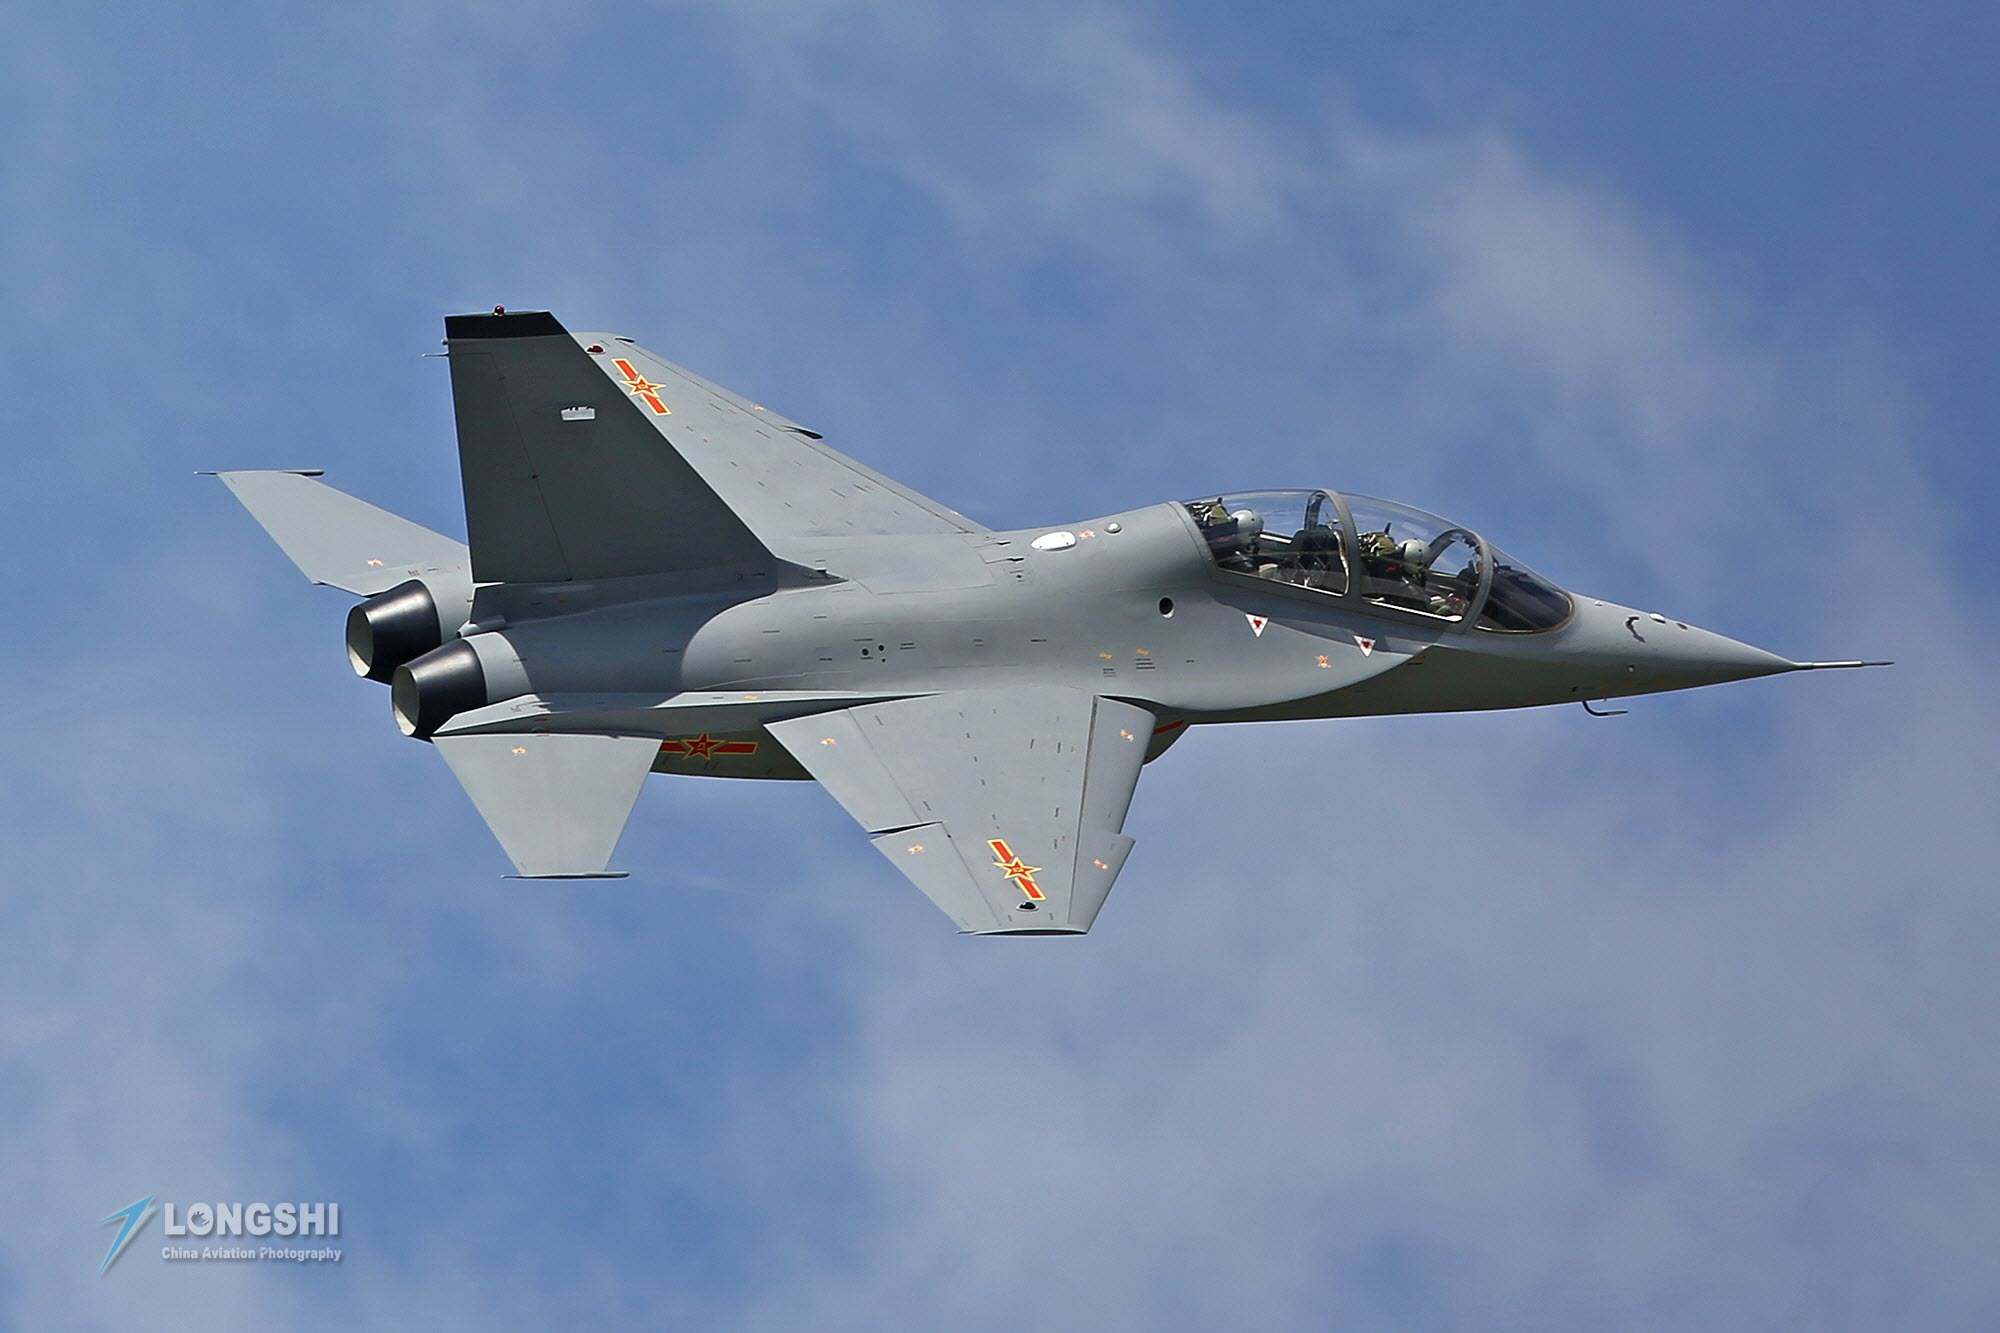Aeronef_militaire: (184, 286, 1924, 951)
